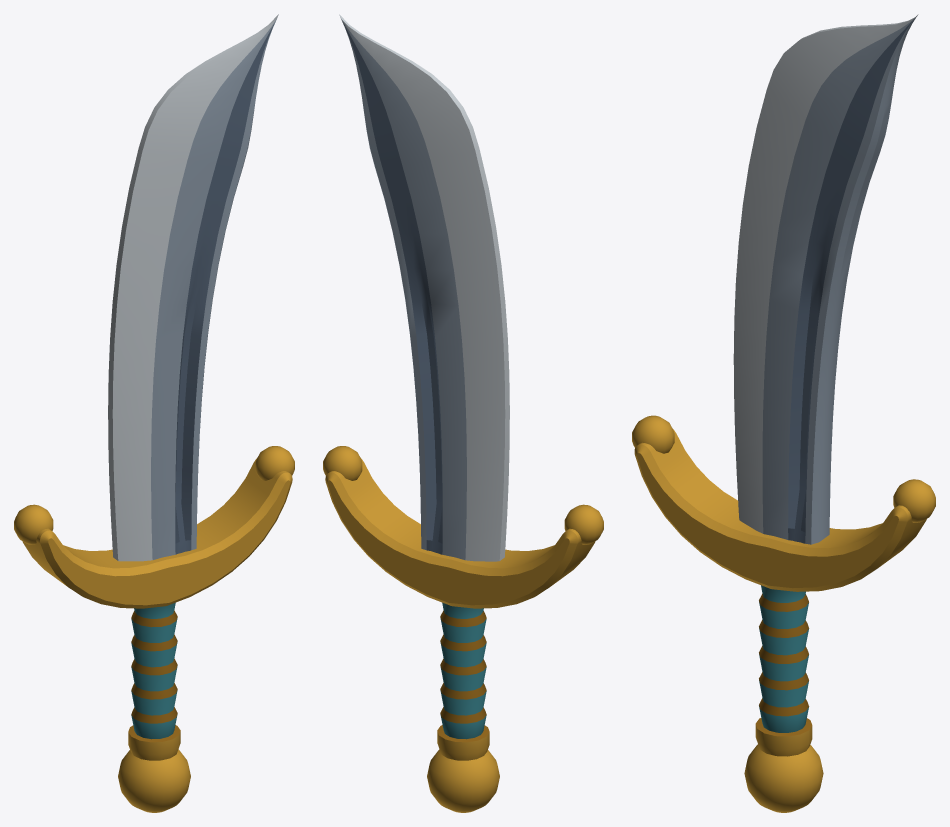
File: Scimitar_01.glb
The picture shows the model from 3 angles, left to right: view 1: azimuth 30°, elevation 25°; view 2: azimuth 150°, elevation 25°; view 3: azimuth 330°, elevation 25°; orthographic projection. The views are drawn at different scales.
Parts seen in each view (by area): view 1: Scimitar_01; view 2: Scimitar_01; view 3: Scimitar_01.
Boxes of the visible parts, x1=… form: Scimitar_01: x1=14, y1=14, x2=294, y2=812; Scimitar_01: x1=323, y1=14, x2=603, y2=812; Scimitar_01: x1=632, y1=14, x2=935, y2=812.
Size of the model in its own units: 2.36 by 6.26 by 0.542.
